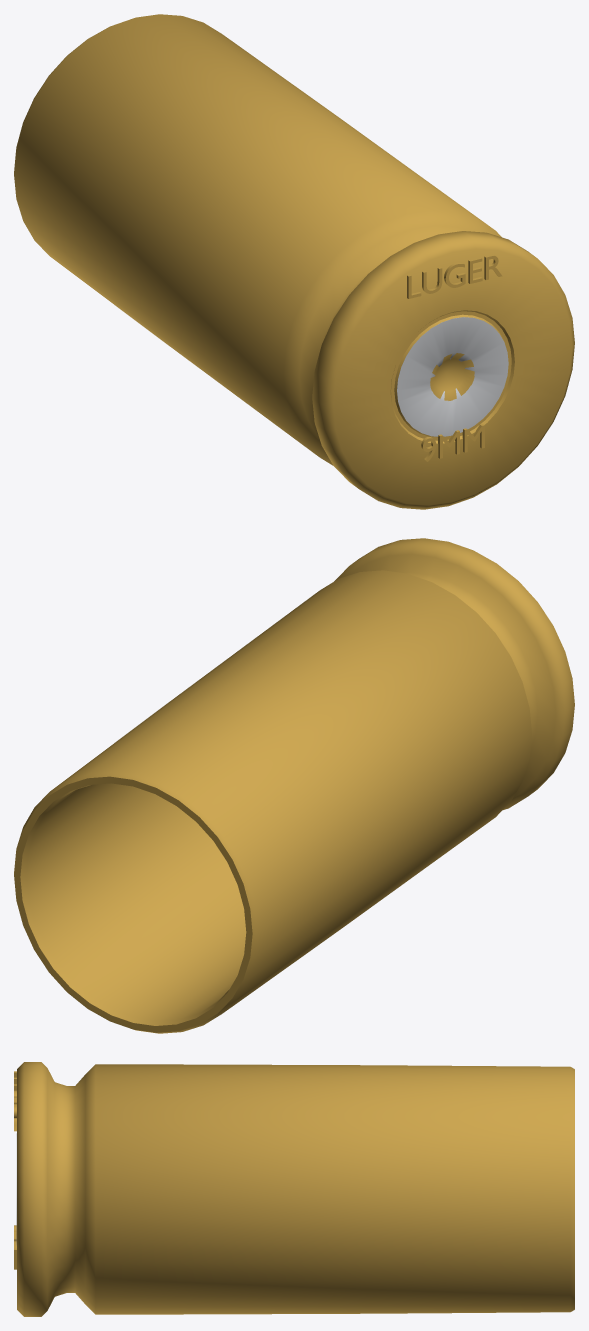
Rendered from cartridge_case.glb.
3 renders of one model, top to bottom at view 1: azimuth 30°, elevation 25°; view 2: azimuth 150°, elevation 25°; view 3: azimuth 270°, elevation 25°, orthographic. The views are drawn at different scales.
Visible parts, largest first — view 1: cartridge_case; view 2: cartridge_case; view 3: cartridge_case.
Boxes of the visible parts, x1,y1,x2,y2 form: cartridge_case: (14,14,574,509); cartridge_case: (14,538,574,1033); cartridge_case: (14,1062,574,1316).
Size of the model in its own units: 0.05 by 0.05 by 0.11.
